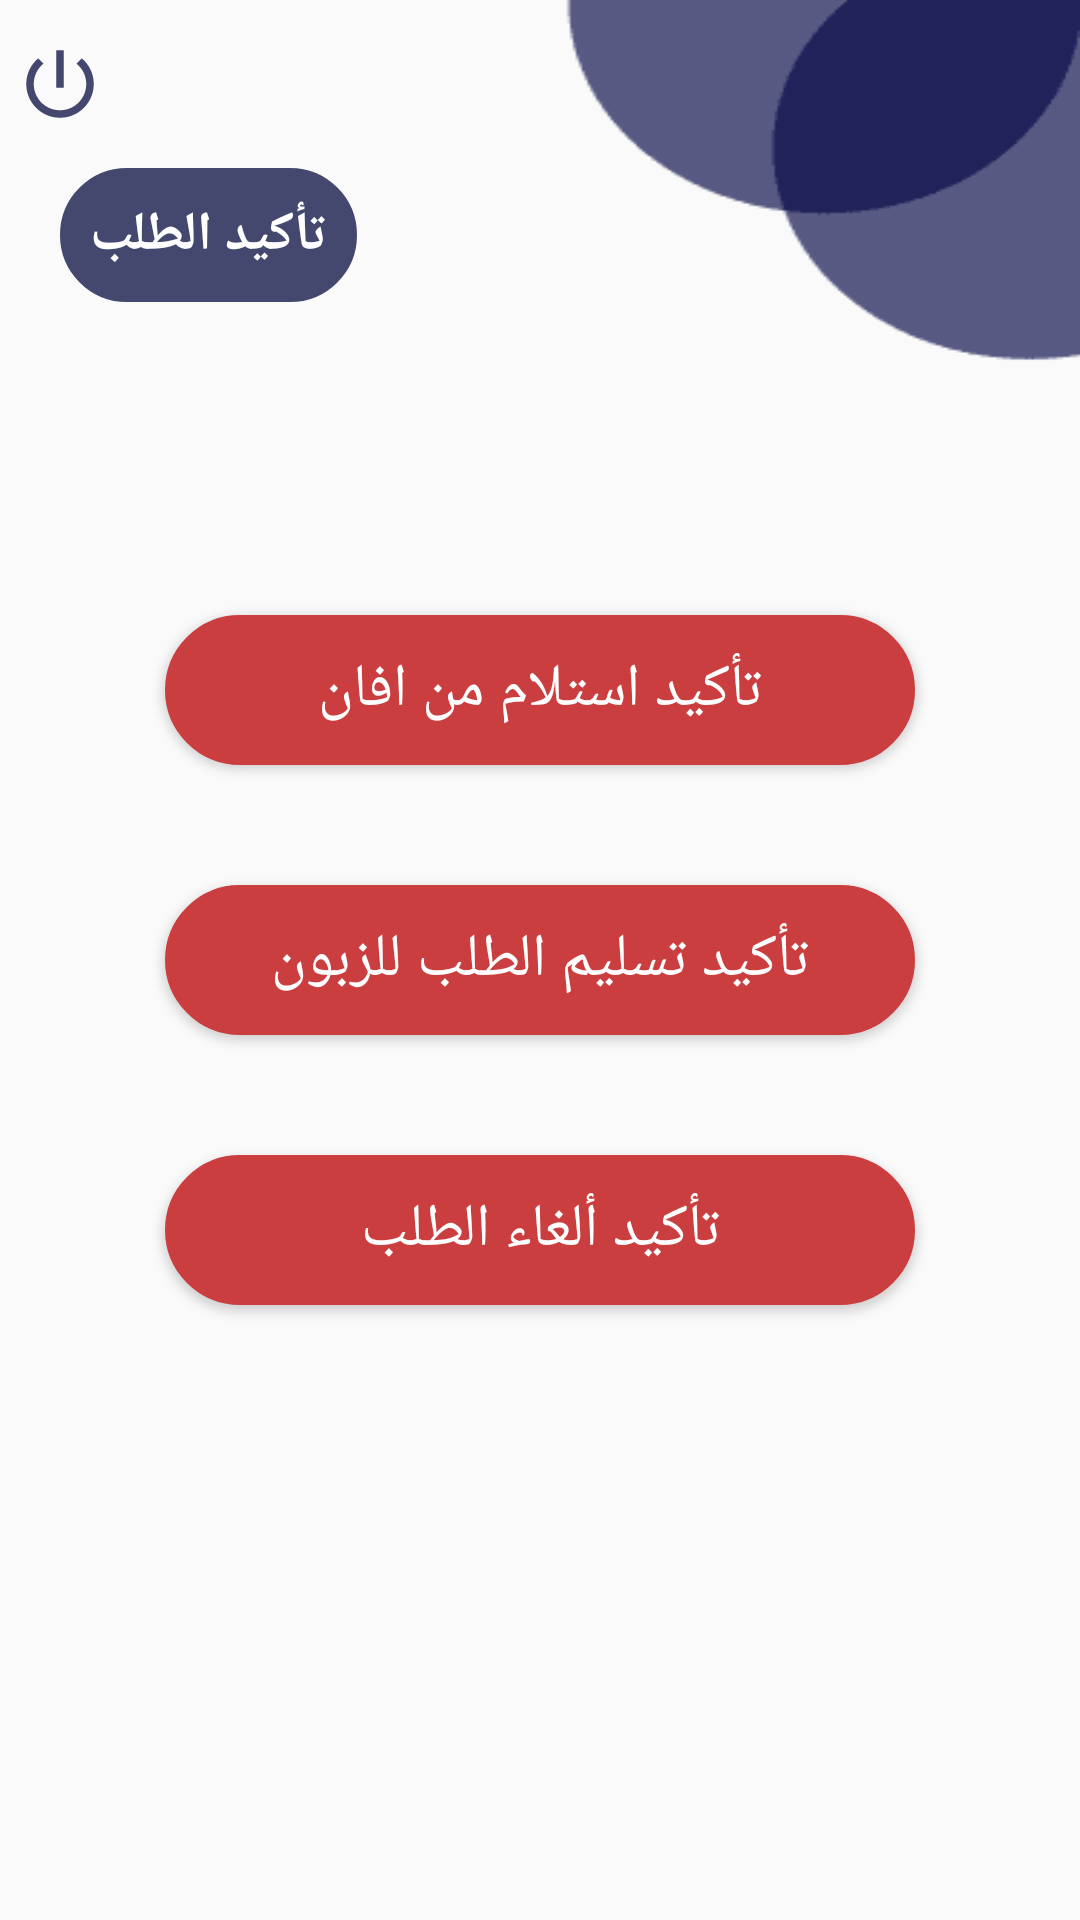

Screen size 1080 x 1920. Icon name, then its center in pixels as [x,y]:
power settings: [60,84]
